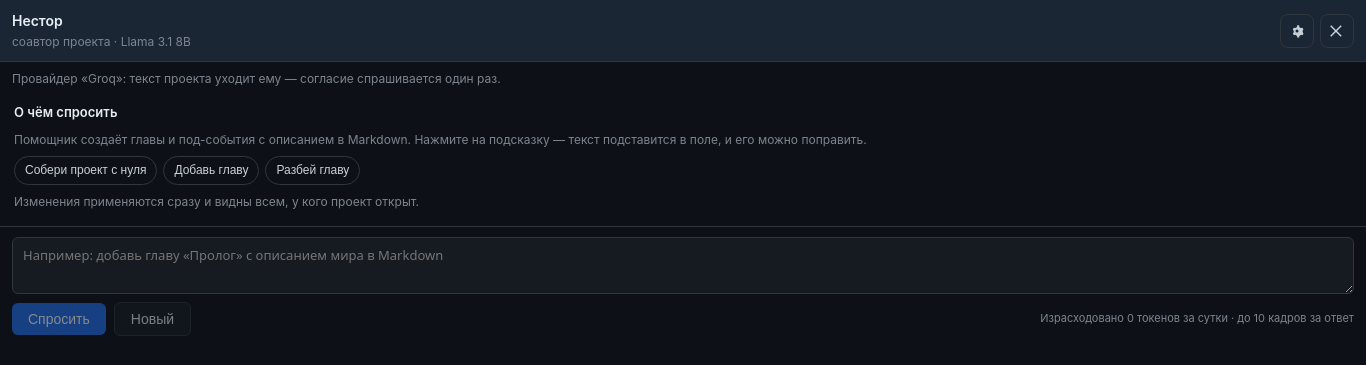
AssistantPanel › «стоп» обрывает ответ и оставляет сказанное с пометкой
In the text box named "Сообщение помощнику": (683, 266) top-left (12, 237), bottom-right (1354, 294), type "Расскажи"
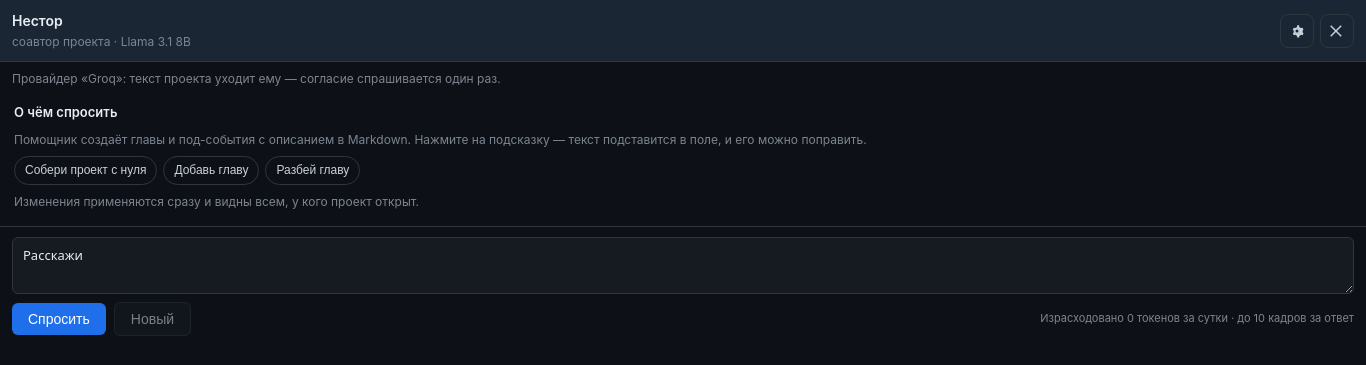
Click the button "Спросить": (59, 319) top-left (12, 303), bottom-right (106, 335)
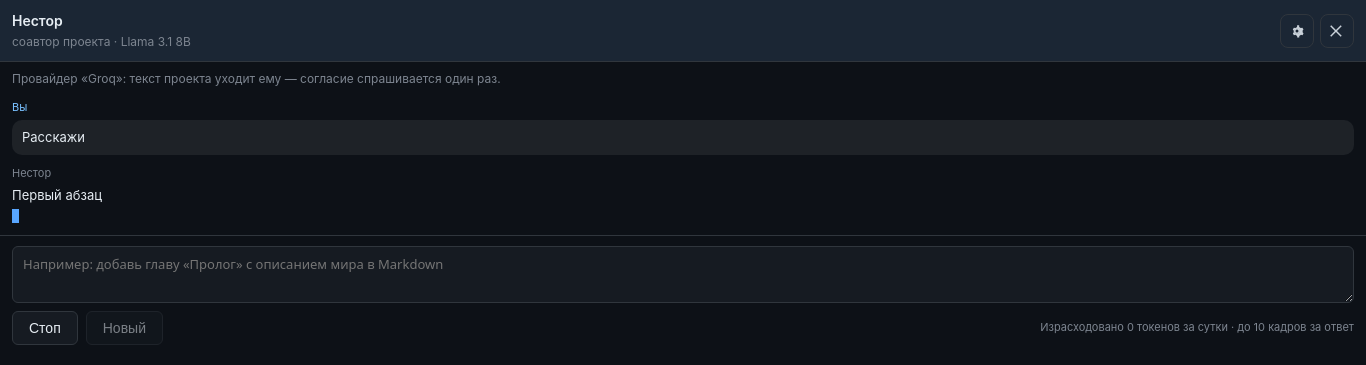
expect the element showing "Нестор Первый абзац" is shown: met, box top-left (12, 166), bottom-right (102, 223)
Click the button "Стоп": (45, 328) top-left (12, 311), bottom-right (78, 345)
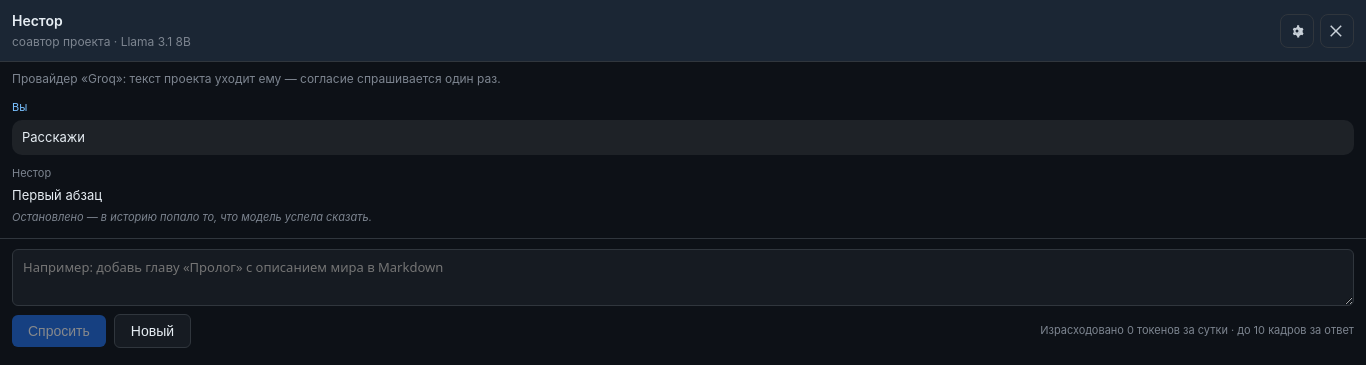
expect the text "Первый абзац" is shown: met, box top-left (12, 187), bottom-right (102, 203)
expect the button "Спросить" is shown: met, box top-left (12, 315), bottom-right (106, 347)
